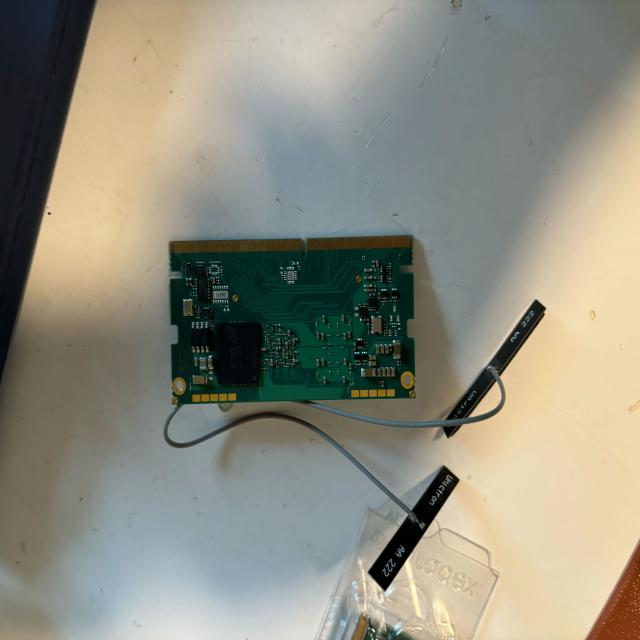som: (163, 239, 418, 402)
